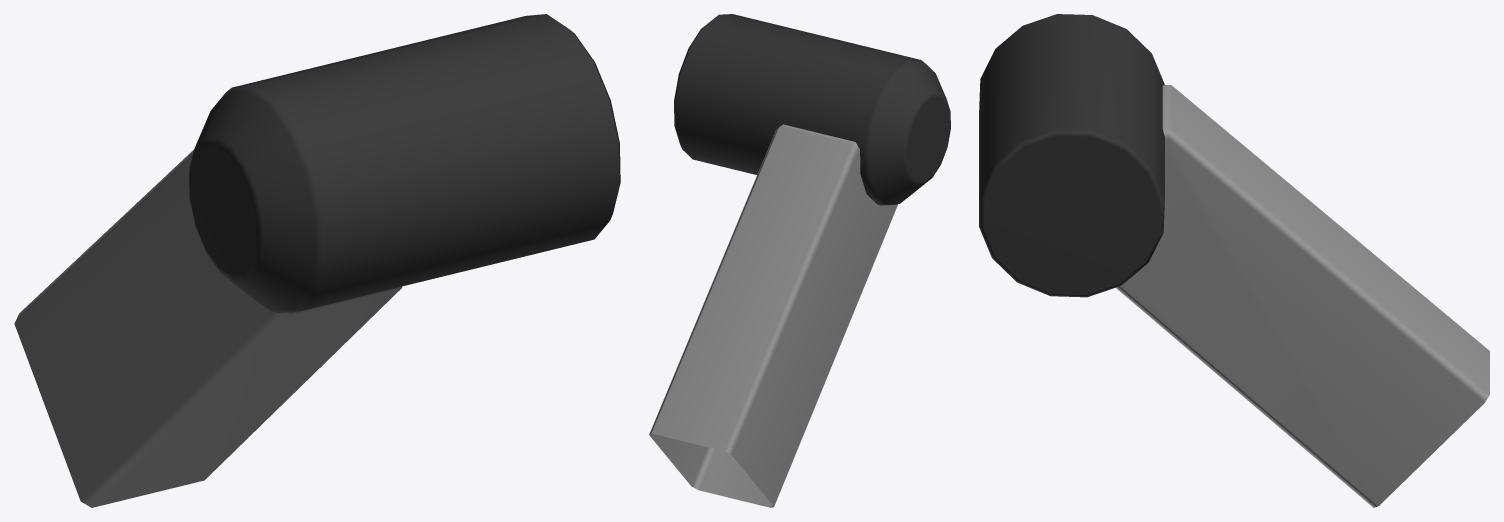
The model's file is obstacle_11_003.fbx.
3 renders of one model, left to right at view 1: azimuth 30°, elevation 25°; view 2: azimuth 150°, elevation 25°; view 3: azimuth 270°, elevation 25°, orthographic. The views are drawn at different scales.
Visible parts, largest first — view 1: obstacle_11_003; view 2: obstacle_11_003; view 3: obstacle_11_003.
Boxes of the visible parts, bbox=[...] form: obstacle_11_003: bbox=[14, 14, 620, 507]; obstacle_11_003: bbox=[649, 14, 950, 507]; obstacle_11_003: bbox=[979, 14, 1489, 507].
Bounding box in the file's own units: 166 × 268 × 257.
